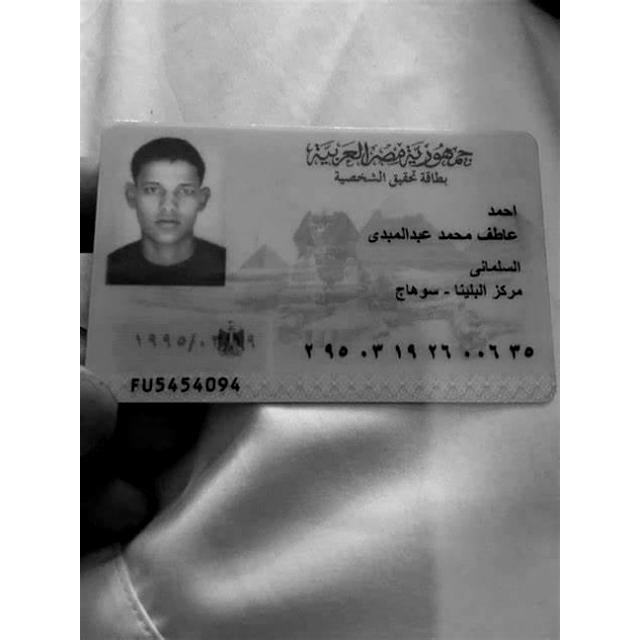front: (86, 124, 555, 402)
